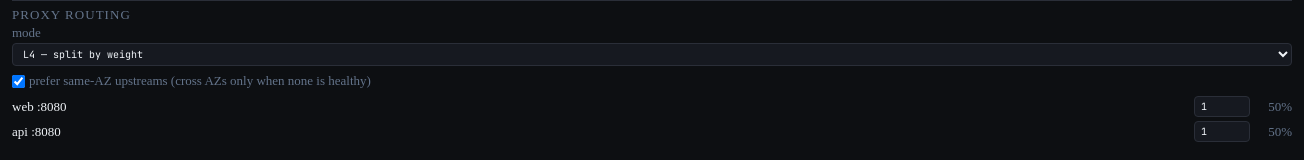
Test: ProxyConfigSection › L4: edits a weight and shows the resulting share
Expected: the text "50%" is shown 2 times, [1268,98,1292,114]; [1268,124,1292,138]
Replace the text in the number field named "weight web :8080" with "3" at (1222, 106), box [1194,96,1250,117]
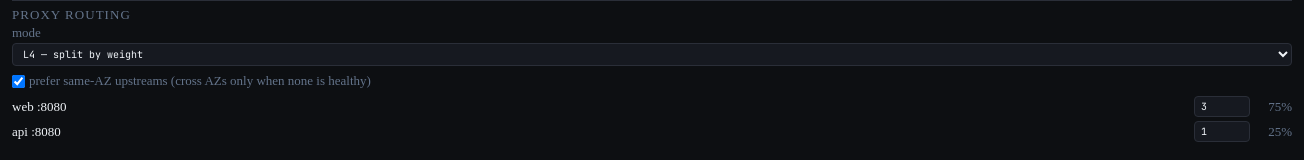
Expected: the text "75%" is shown, [1268,98,1292,114]
Expected: the text "25%" is shown, [1268,124,1292,138]
